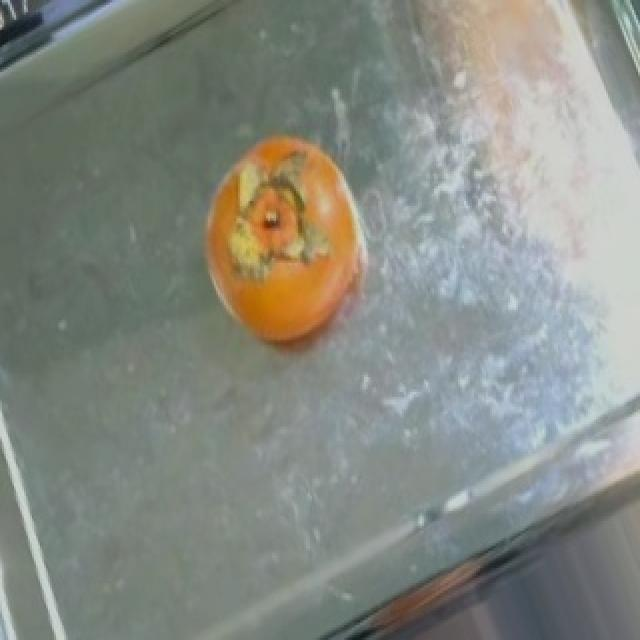Fruit: (184, 119, 396, 382), (342, 590, 536, 638)
